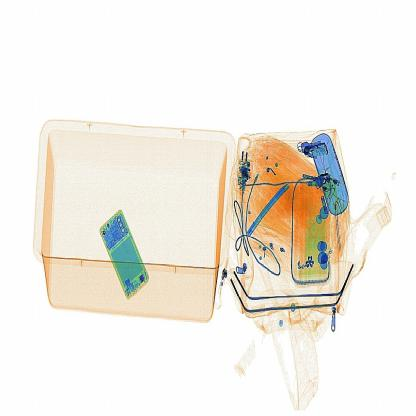pliers: (240, 172, 296, 247)
